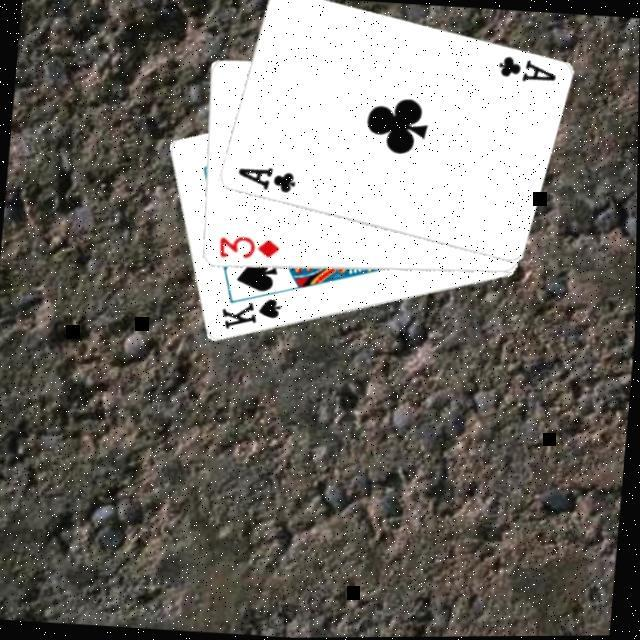3D: (214, 232, 282, 265)
AC: (232, 163, 298, 197), (492, 54, 558, 88)
KS: (215, 292, 285, 337)
